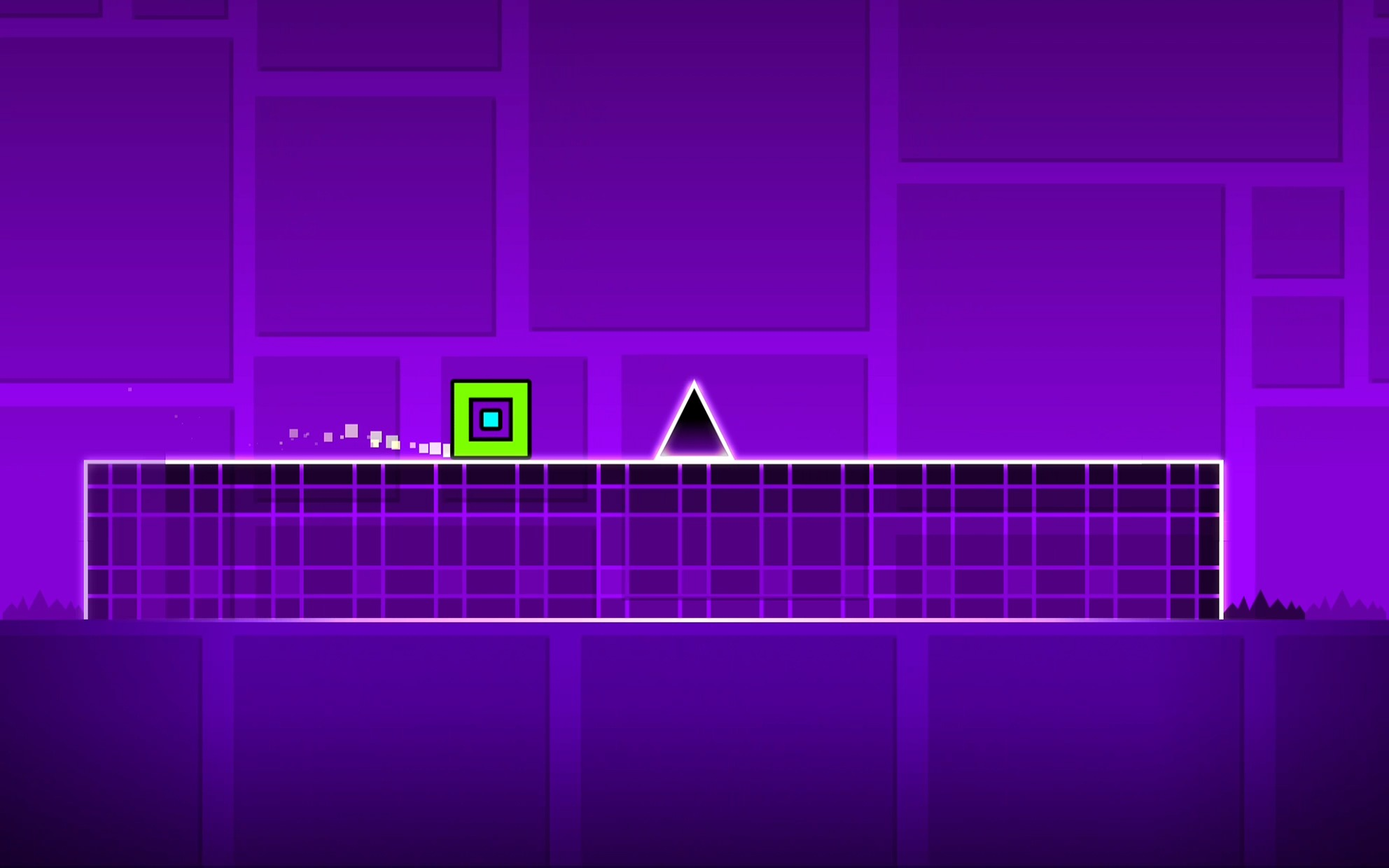Block2: (80, 456, 1229, 610)
Player: (449, 380, 530, 457)
Spike: (657, 380, 732, 457)
Spike3: (1221, 578, 1389, 620)
